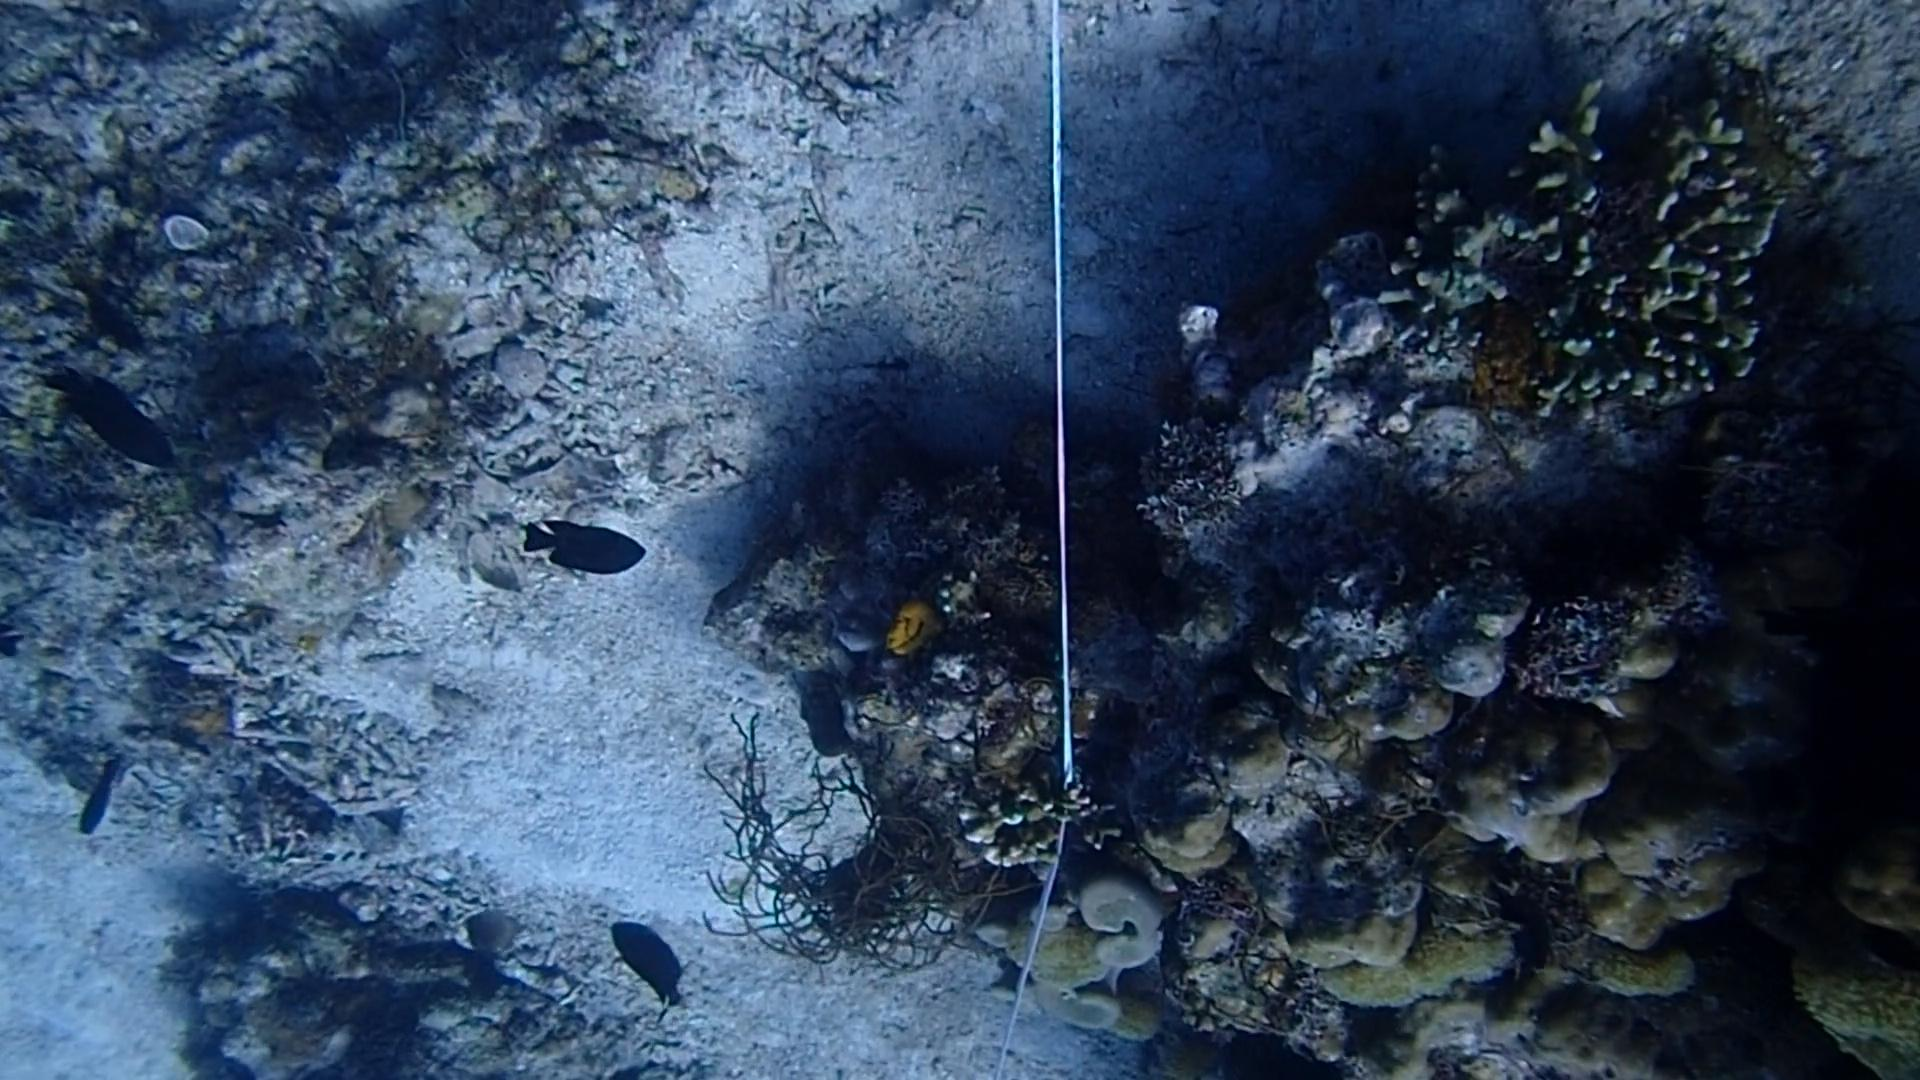Dark Fish: (45, 355, 186, 489), (597, 906, 709, 1030), (516, 501, 661, 589), (67, 270, 165, 373), (71, 749, 138, 852)
Light Fish: (451, 899, 534, 964)
